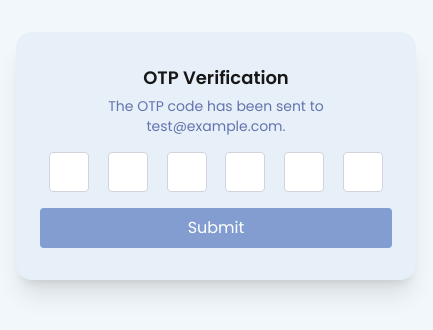
Test case: Verify Page › displays the error message when OTP verification fails
Type "1" into the field named "Please enter OTP character 1" at {"x": 69, "y": 172}, box [49, 152, 89, 192]
Type "2" into the field named "Please enter OTP character 2" at {"x": 128, "y": 172}, box [108, 152, 148, 192]
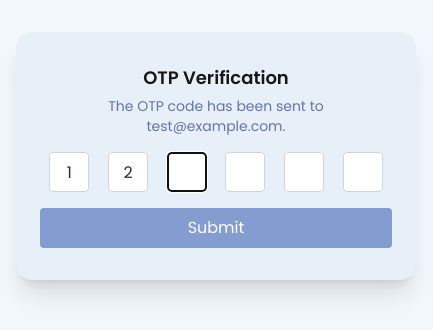
Type "3" into the field named "Please enter OTP character 3" at {"x": 187, "y": 172}, box [167, 152, 207, 192]
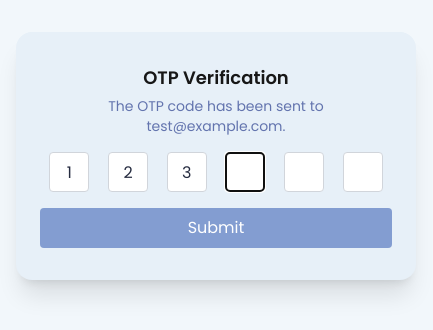
Type "4" into the field named "Please enter OTP character 4" at {"x": 245, "y": 172}, box [225, 152, 265, 192]
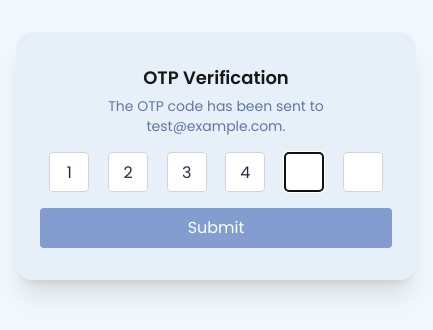
Type "5" into the field named "Please enter OTP character 5" at {"x": 304, "y": 172}, box [284, 152, 324, 192]
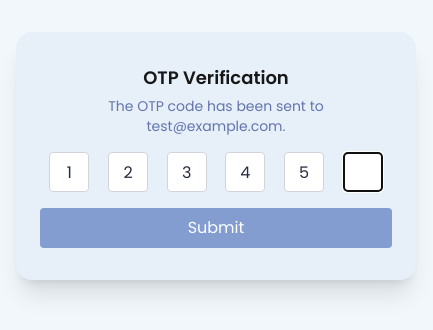
Type "6" into the field named "Please enter OTP character 6" at {"x": 363, "y": 172}, box [343, 152, 383, 192]
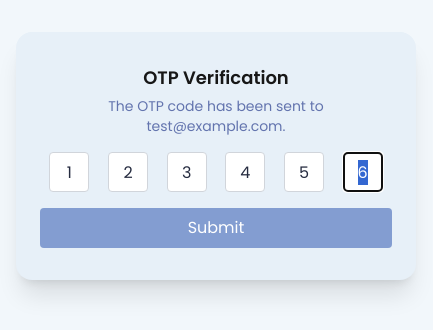
Click the button "Submit" at {"x": 216, "y": 228}, box [40, 208, 392, 248]
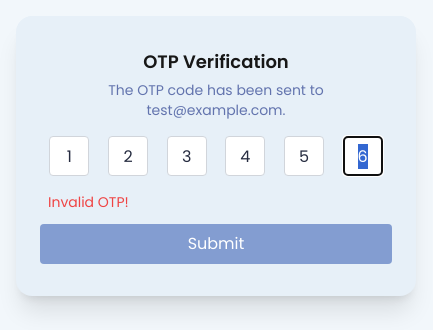
Check: the text "Invalid OTP!" is shown, box [48, 192, 129, 212]
